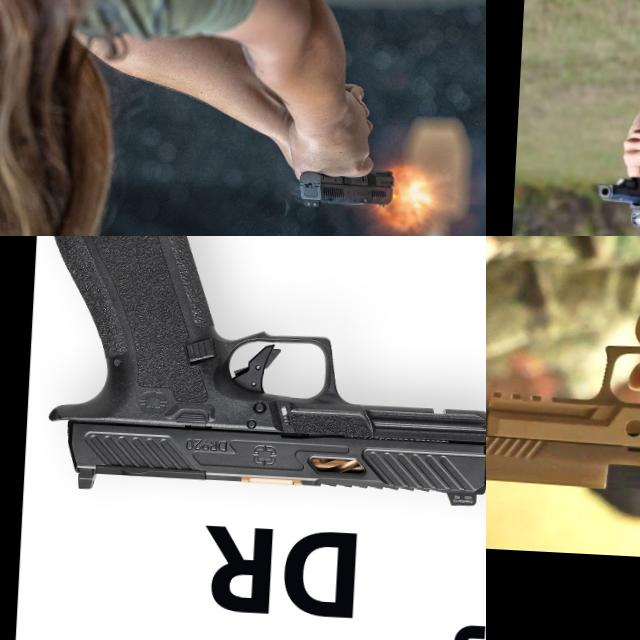handgun: (24, 236, 486, 516), (486, 330, 640, 520), (293, 162, 398, 212), (592, 153, 640, 233)
